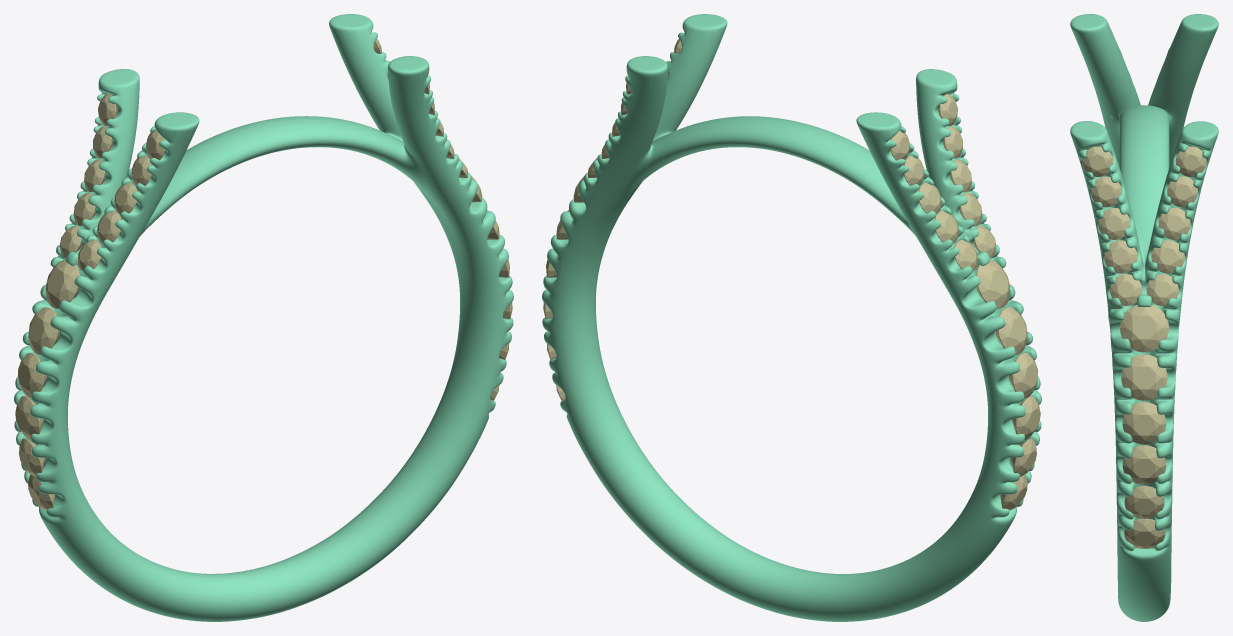
3 views of the same model, side by side, from view 1: azimuth 30°, elevation 25°; view 2: azimuth 150°, elevation 25°; view 3: azimuth 270°, elevation 25° (orthographic). The views are drawn at different scales.
Parts seen in each view (by area): view 1: Metal02, Diamond_Gem.030, Diamond_Gem.019, Diamond_Gem.018, Diamond_Gem.017; view 2: Metal02, Diamond_Gem.030, Diamond_Gem.019, Diamond_Gem.018, Diamond_Gem.017; view 3: Metal02, Diamond_Gem.031, Diamond_Gem.010, Diamond_Gem.011, Diamond_Gem.012, Diamond_Gem.013, Diamond_Gem.014, Diamond_Gem.001, Diamond_Gem.007, Diamond_Gem.005, Diamond_Gem.002, Diamond_Gem.006 (+5 smaller).
Boxes of the visible parts, <box> form: Metal02: <box>14,14,513,621</box>; Diamond_Gem.030: <box>45,259,79,308</box>; Diamond_Gem.019: <box>28,307,60,354</box>; Diamond_Gem.018: <box>18,353,47,398</box>; Diamond_Gem.017: <box>15,396,43,440</box>; Metal02: <box>542,14,1041,621</box>; Diamond_Gem.030: <box>976,259,1010,308</box>; Diamond_Gem.019: <box>995,307,1027,354</box>; Diamond_Gem.018: <box>1008,353,1037,398</box>; Diamond_Gem.017: <box>1012,396,1040,440</box>; Metal02: <box>1070,14,1218,621</box>; Diamond_Gem.031: <box>1120,305,1168,352</box>; Diamond_Gem.010: <box>1121,354,1167,400</box>; Diamond_Gem.011: <box>1122,402,1166,444</box>; Diamond_Gem.012: <box>1122,445,1166,484</box>; Diamond_Gem.013: <box>1124,486,1164,518</box>; Diamond_Gem.014: <box>1124,518,1165,548</box>; Diamond_Gem.001: <box>1104,240,1137,273</box>; Diamond_Gem.007: <box>1151,240,1184,273</box>; Diamond_Gem.005: <box>1158,208,1190,239</box>; Diamond_Gem.002: <box>1098,208,1130,239</box>; Diamond_Gem.006: <box>1146,274,1178,305</box>.
Size of the model in its own units: 20.91 by 22.37 by 5.77.
